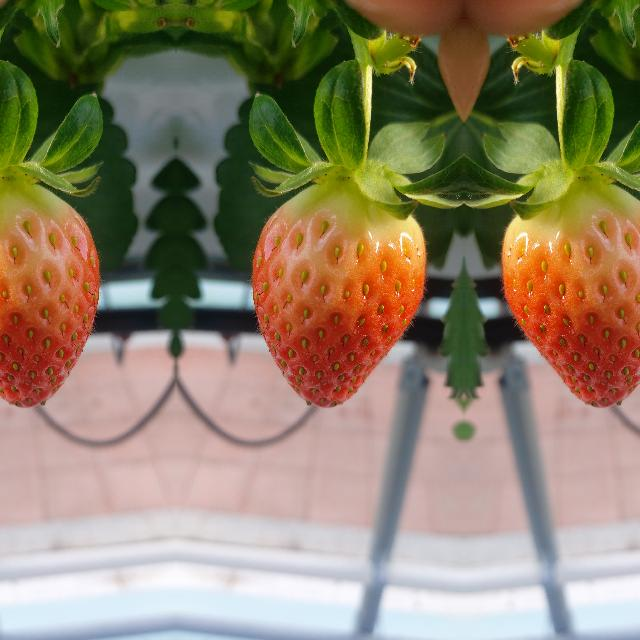Health_100: (251, 184, 425, 406), (501, 183, 640, 406), (0, 183, 99, 406)
